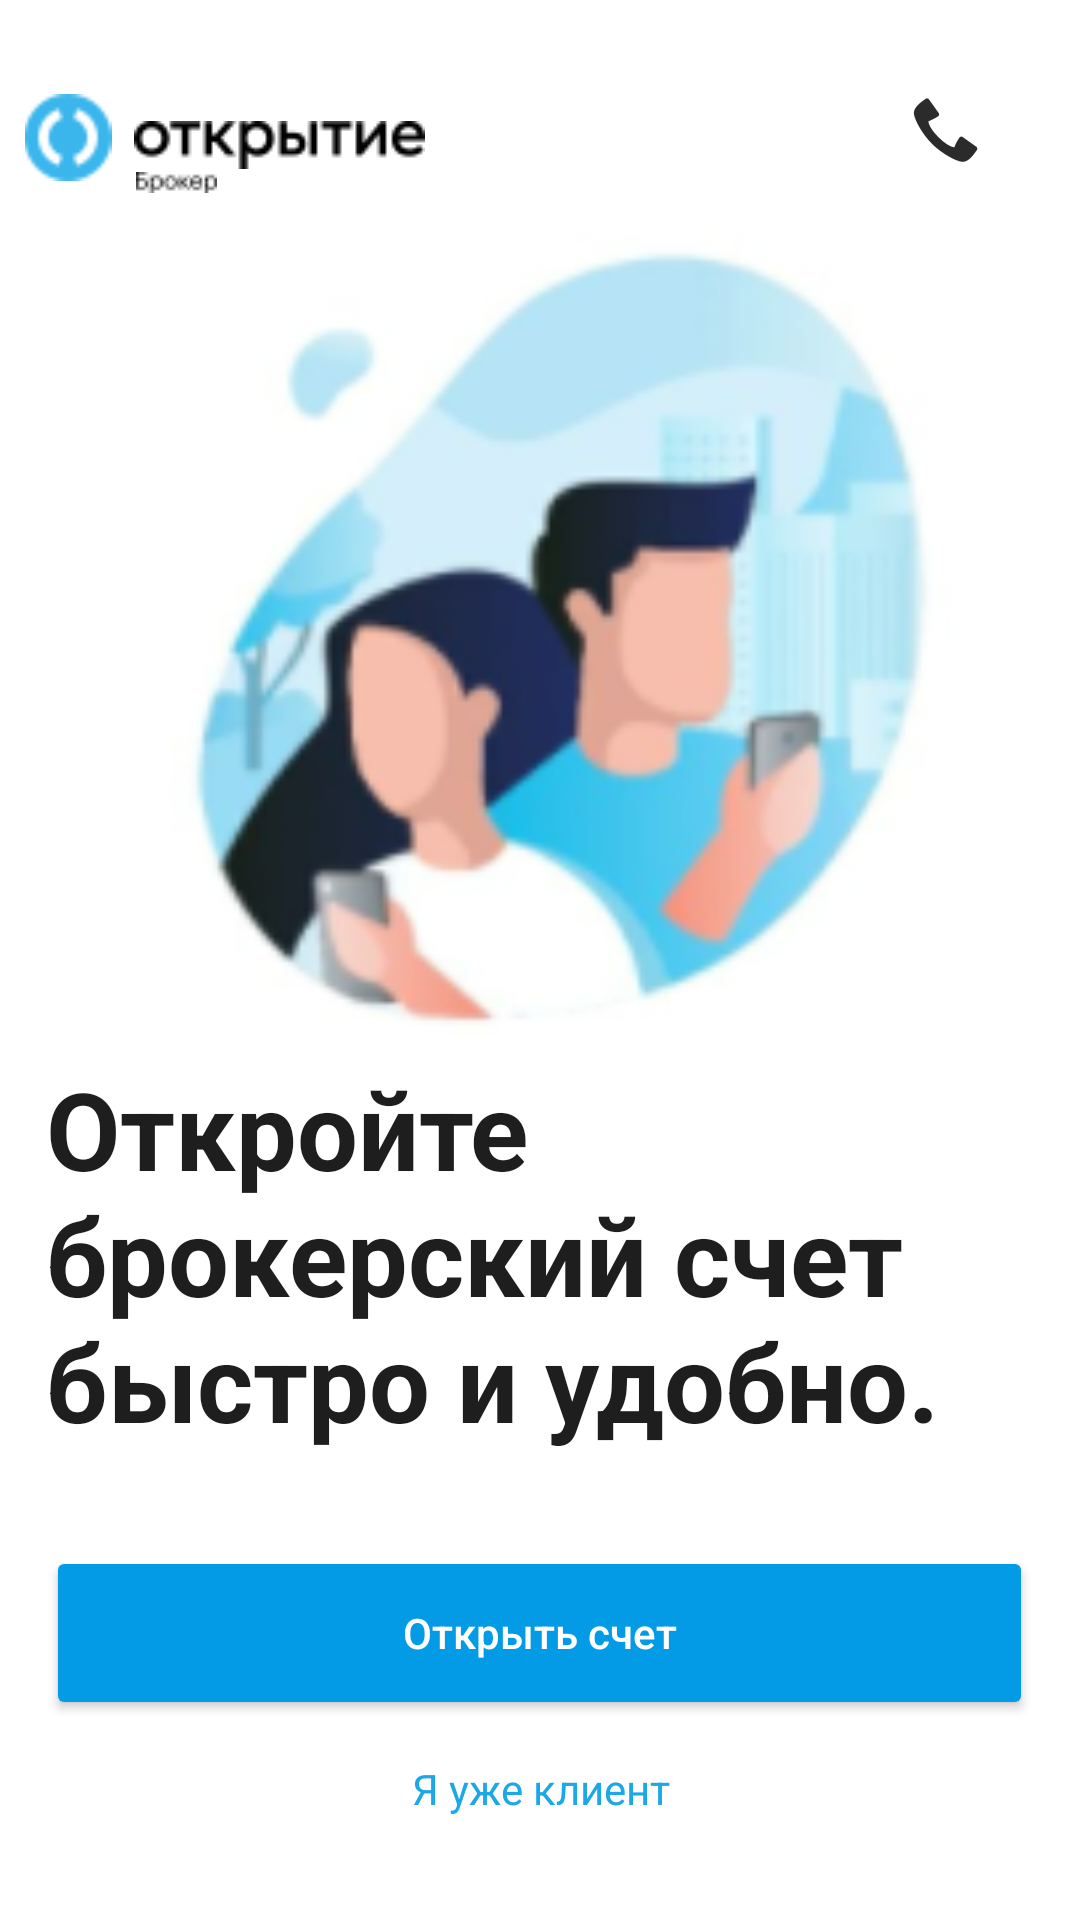

Named icons in this screenshot (1080 × 1920) and their centers, point (x, y):
phone call: point (946, 130)
